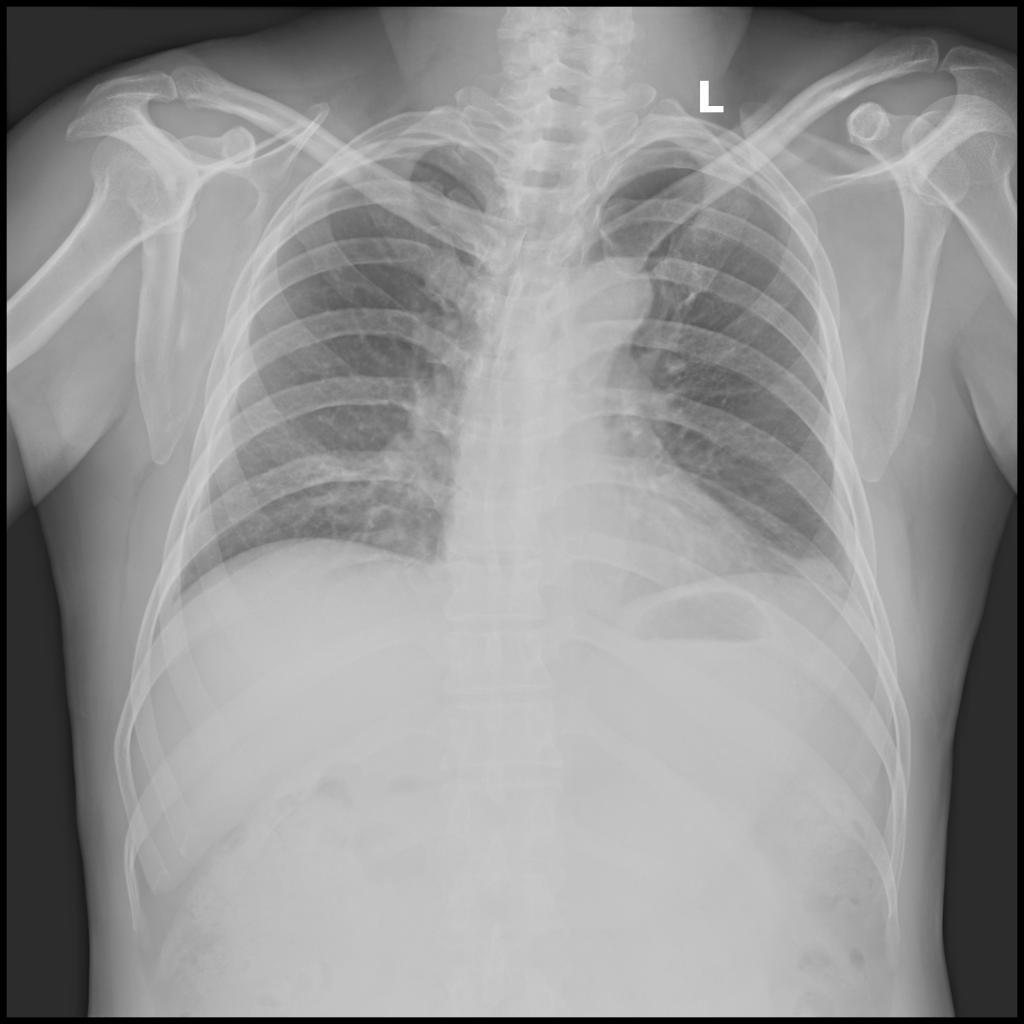Nodule: (800, 557, 846, 590)
